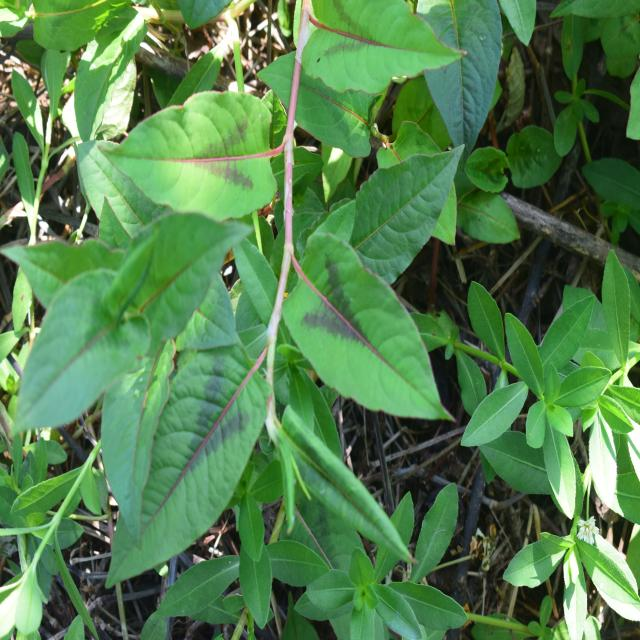Chinese_knotweed: (85, 78, 445, 573)
